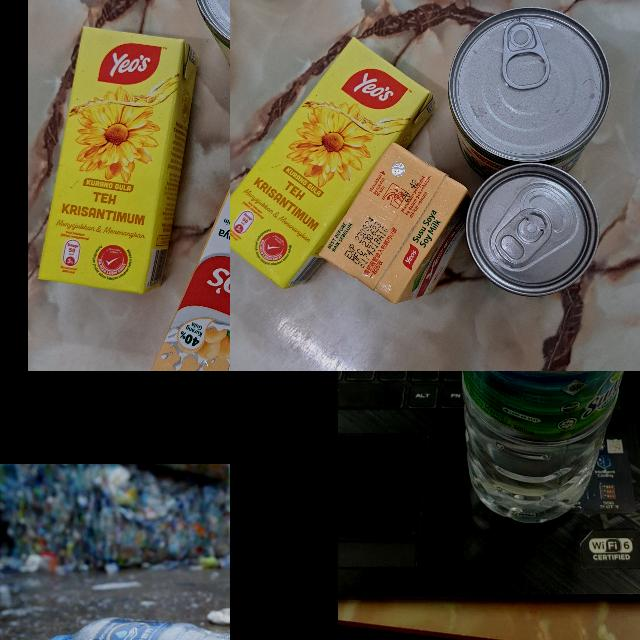aba de lata: (498, 21, 552, 93), (492, 205, 552, 267)
caixinha: (230, 32, 434, 288), (36, 25, 202, 293), (318, 141, 470, 301), (144, 143, 230, 371)
garrafa plástica: (449, 371, 640, 525)
lata: (450, 6, 610, 180), (464, 162, 600, 298)
